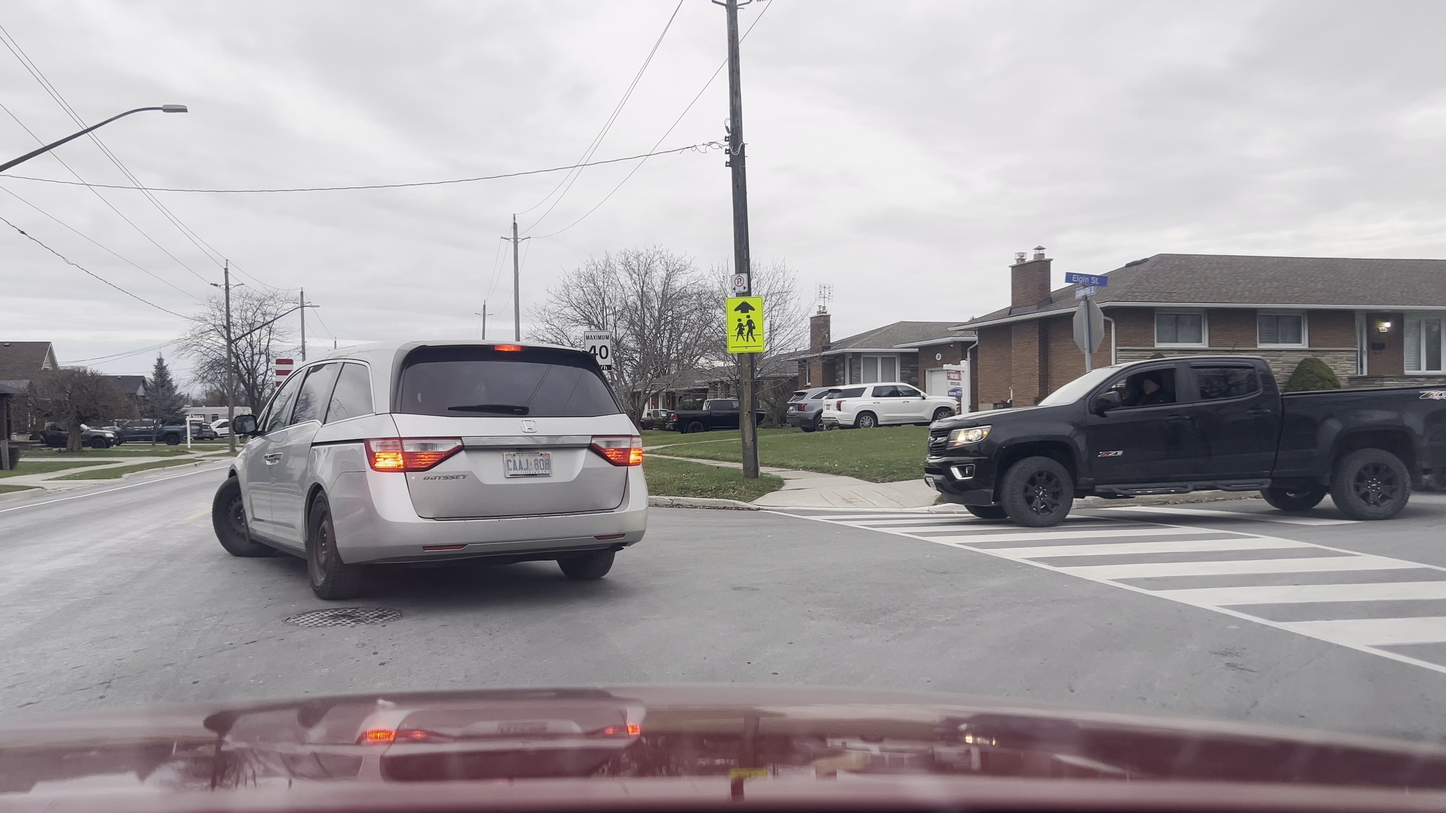construction: (256, 344, 316, 401)
